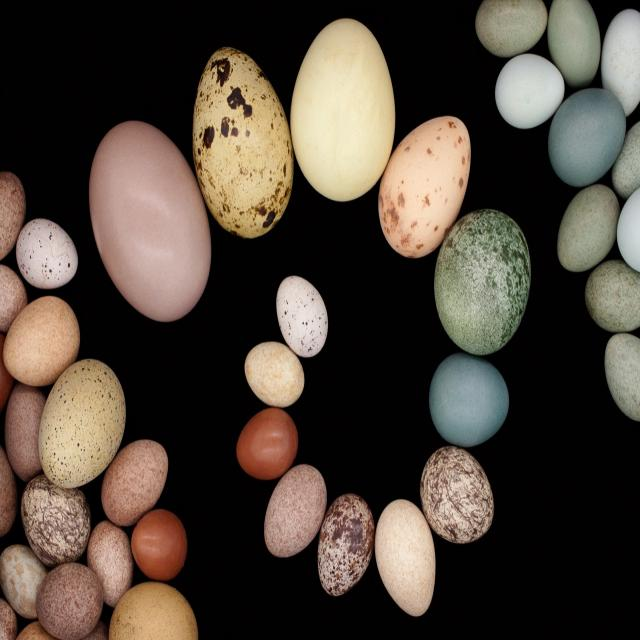huevos: (74, 117, 219, 331)
